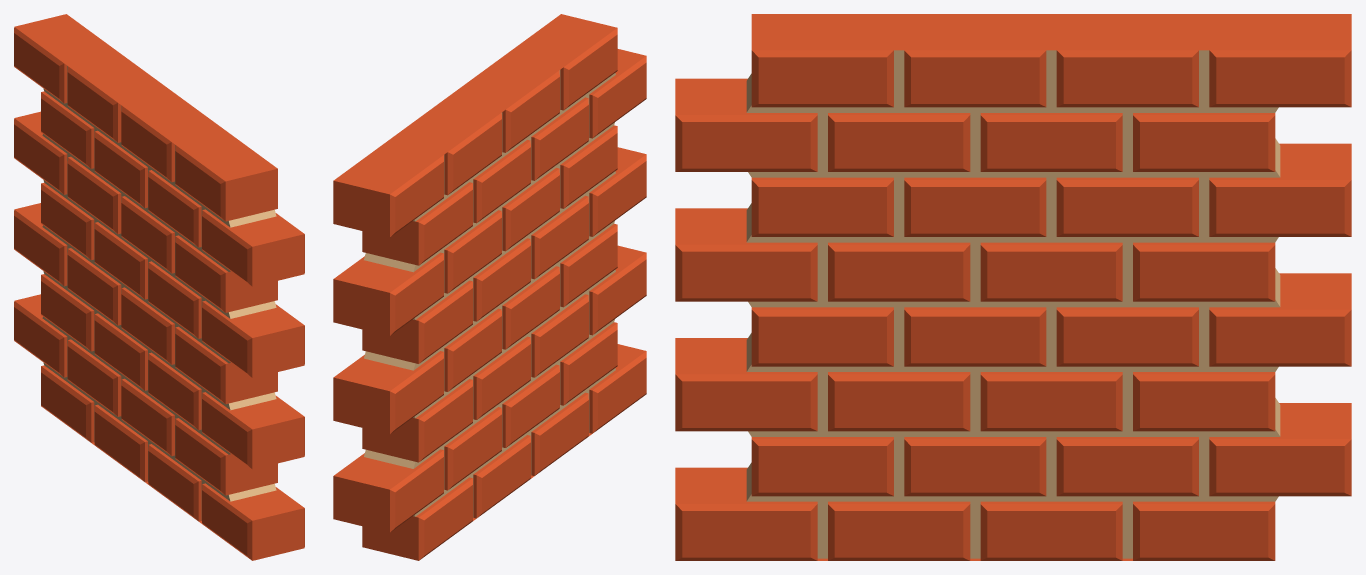
File: BrickWall.fbx
3 views of the same model, side by side, from view 1: azimuth 30°, elevation 25°; view 2: azimuth 150°, elevation 25°; view 3: azimuth 270°, elevation 25° (orthographic). The views are drawn at different scales.
Visible parts, largest first — view 1: HighPolyWall; view 2: HighPolyWall; view 3: HighPolyWall.
Boxes of the visible parts, x1,y1,x2,y2 form: HighPolyWall: (14, 14, 304, 560); HighPolyWall: (333, 14, 646, 560); HighPolyWall: (675, 14, 1351, 560).
Bounding box in the file's own units: 33 × 197 × 236.
